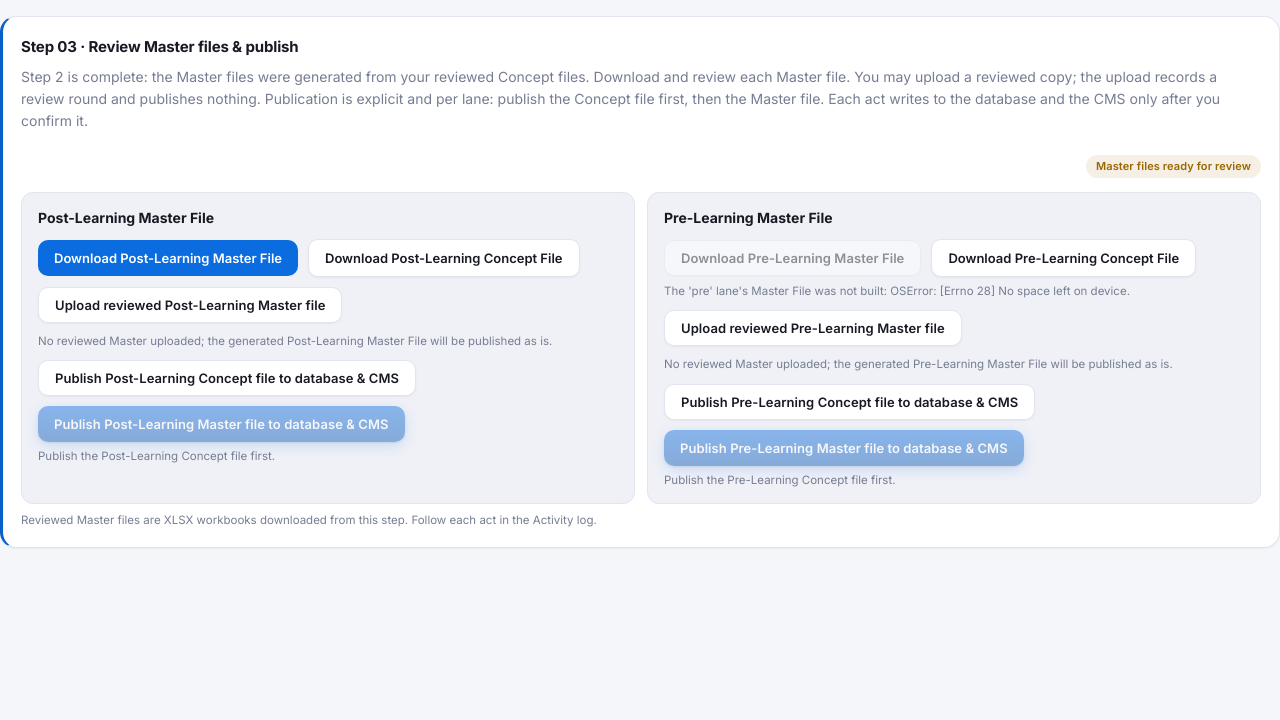
Test: publishes the Concept file, then the Master file, each confirmed, in order, with receipts
Click the button with test id "publish-concept-post" at (227, 378), box x1=38 y1=360 x2=416 y2=396
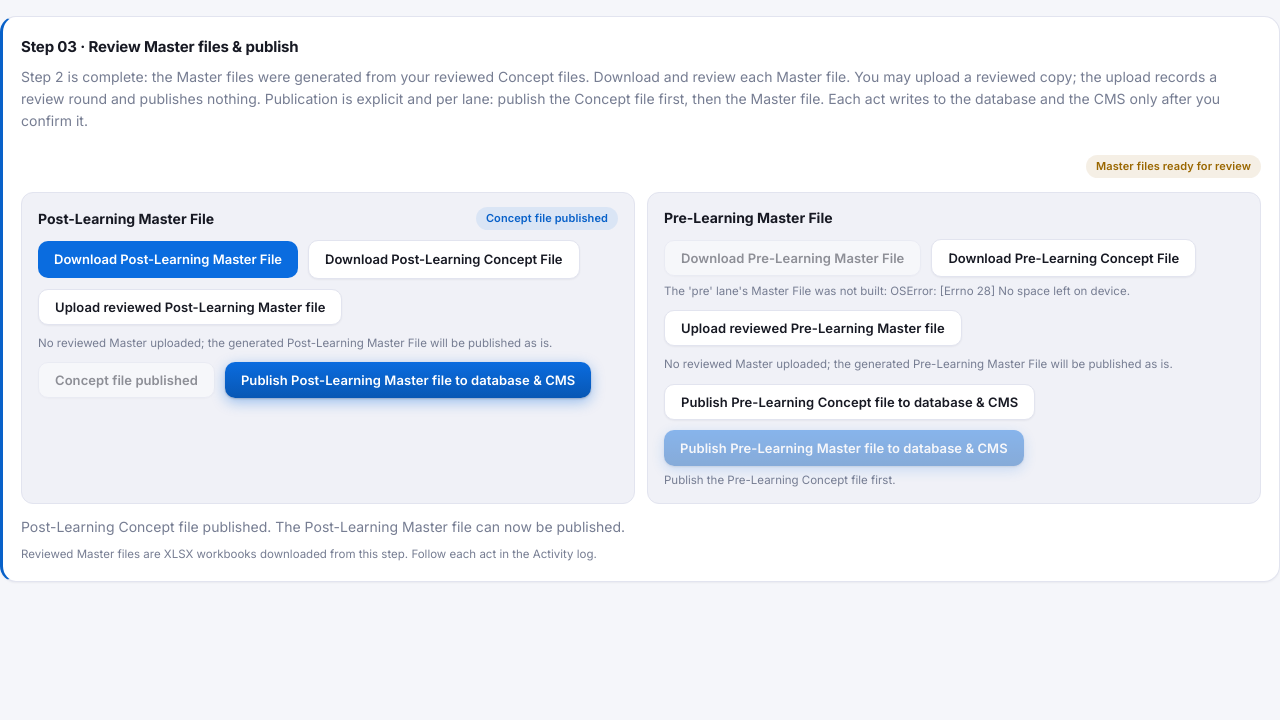
Expected: the button with test id "publish-concept-post" reads "Concept file published", x1=38 y1=362 x2=215 y2=398
Expected: the button with test id "publish-master-post" is enabled
Click the button with test id "publish-master-post" at (408, 380), box x1=225 y1=362 x2=591 y2=398
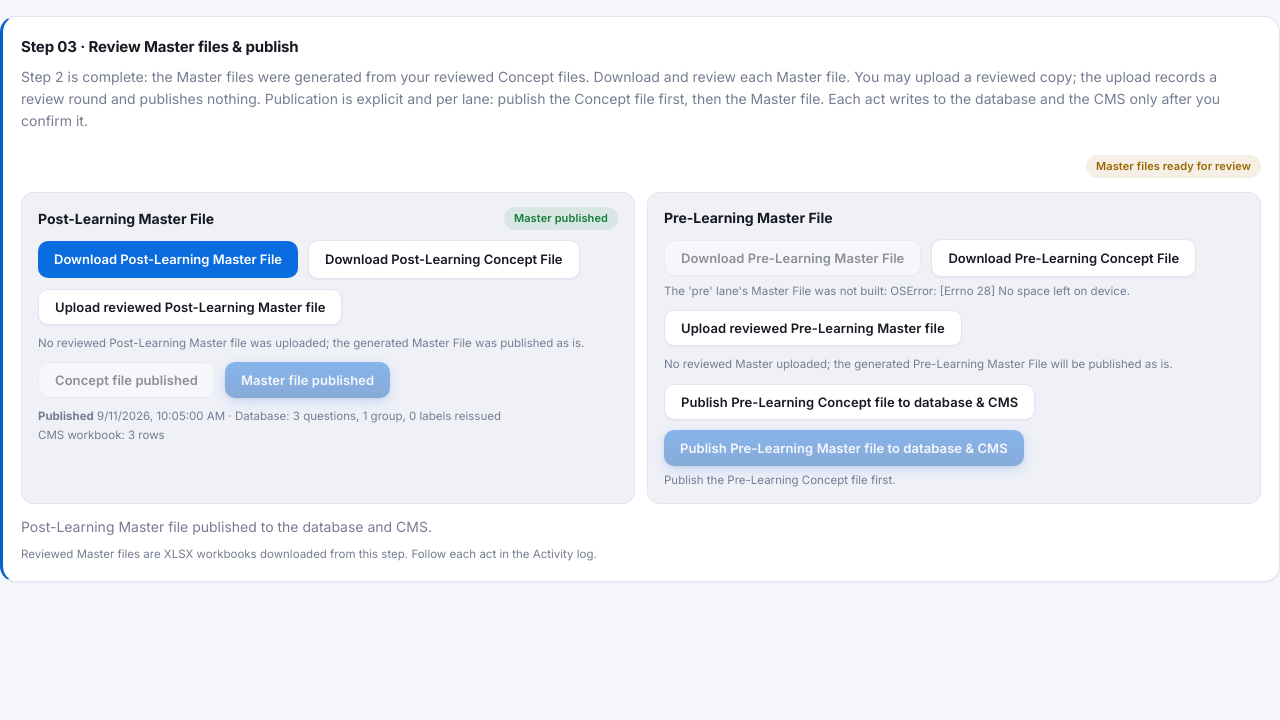
Expected: the message with test id "master-publication-post" shows "3 questions", x1=293 y1=409 x2=501 y2=423
Expected: the message with test id "master-publication-post" shows "1 group", x1=293 y1=409 x2=501 y2=423
Expected: the message with test id "master-publication-post" shows "CMS workbook: 3 rows", x1=38 y1=409 x2=501 y2=442
